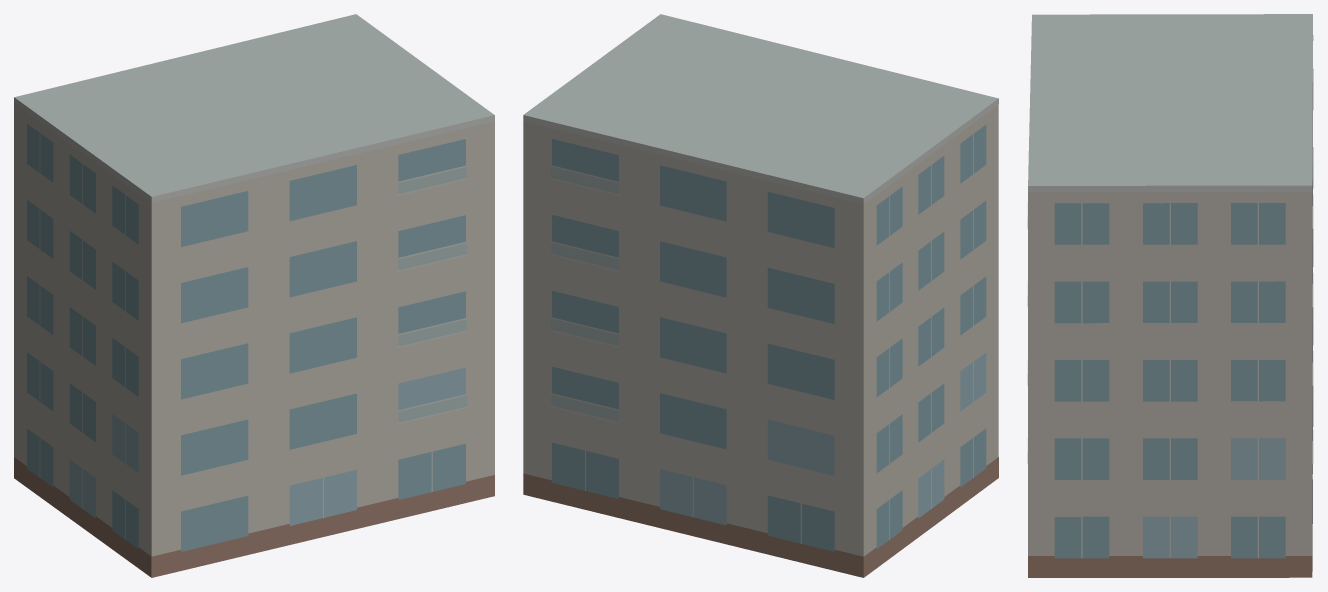
File: survey-upis-32877401.glb
3 views of the same model, side by side, from view 1: azimuth 30°, elevation 25°; view 2: azimuth 150°, elevation 25°; view 3: azimuth 270°, elevation 25° (orthographic). The views are drawn at different scales.
Parts seen in each view (by area): view 1: survey-upis-32877401.tmp; view 2: survey-upis-32877401.tmp; view 3: survey-upis-32877401.tmp.
Boxes of the visible parts, x1,y1,x2,y2 form: survey-upis-32877401.tmp: [14, 14, 494, 577]; survey-upis-32877401.tmp: [523, 14, 998, 577]; survey-upis-32877401.tmp: [1027, 14, 1313, 577].
Bounding box in the file's own units: 14.35 × 15.25 × 10.1.
